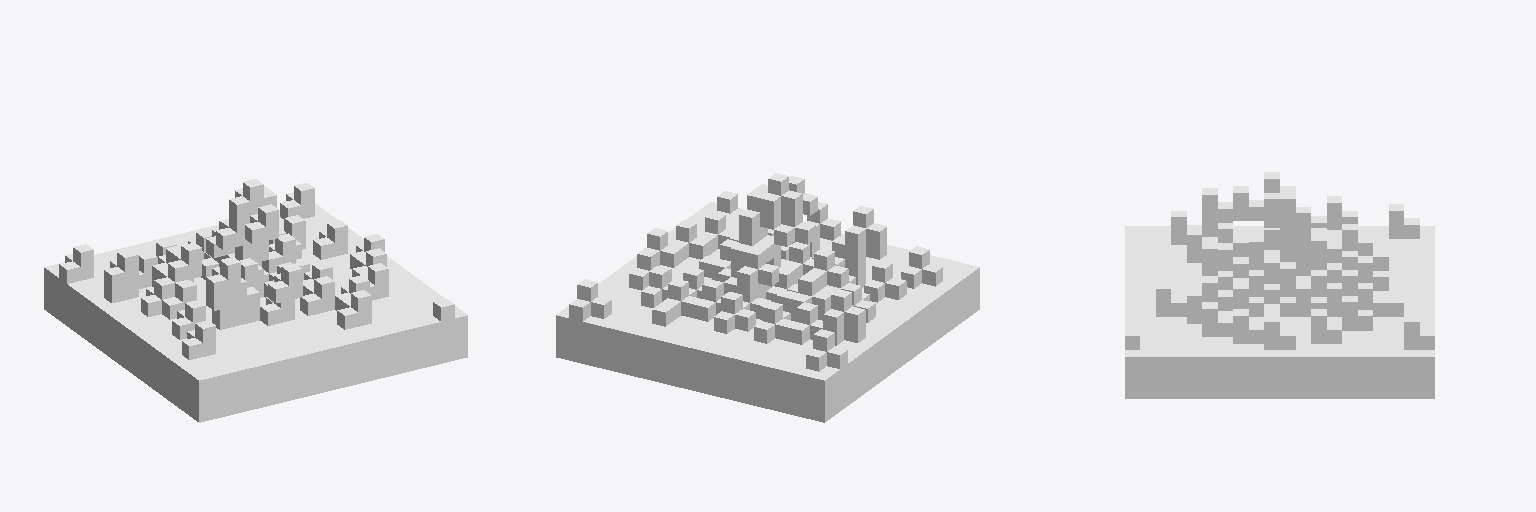
File: plant1.vox.obj
3 views of the same model, side by side, from view 1: azimuth 30°, elevation 25°; view 2: azimuth 150°, elevation 25°; view 3: azimuth 270°, elevation 25° (orthographic).
Parts seen in each view (by area): view 1: object 1; view 2: object 1; view 3: object 1.
Boxes of the visible parts, box(x1,y1,x2,y2) form: object 1: box(44, 179, 467, 422); object 1: box(556, 173, 979, 422); object 1: box(1125, 172, 1434, 398).
Size of the model in its own units: 2 by 1.1 by 2.